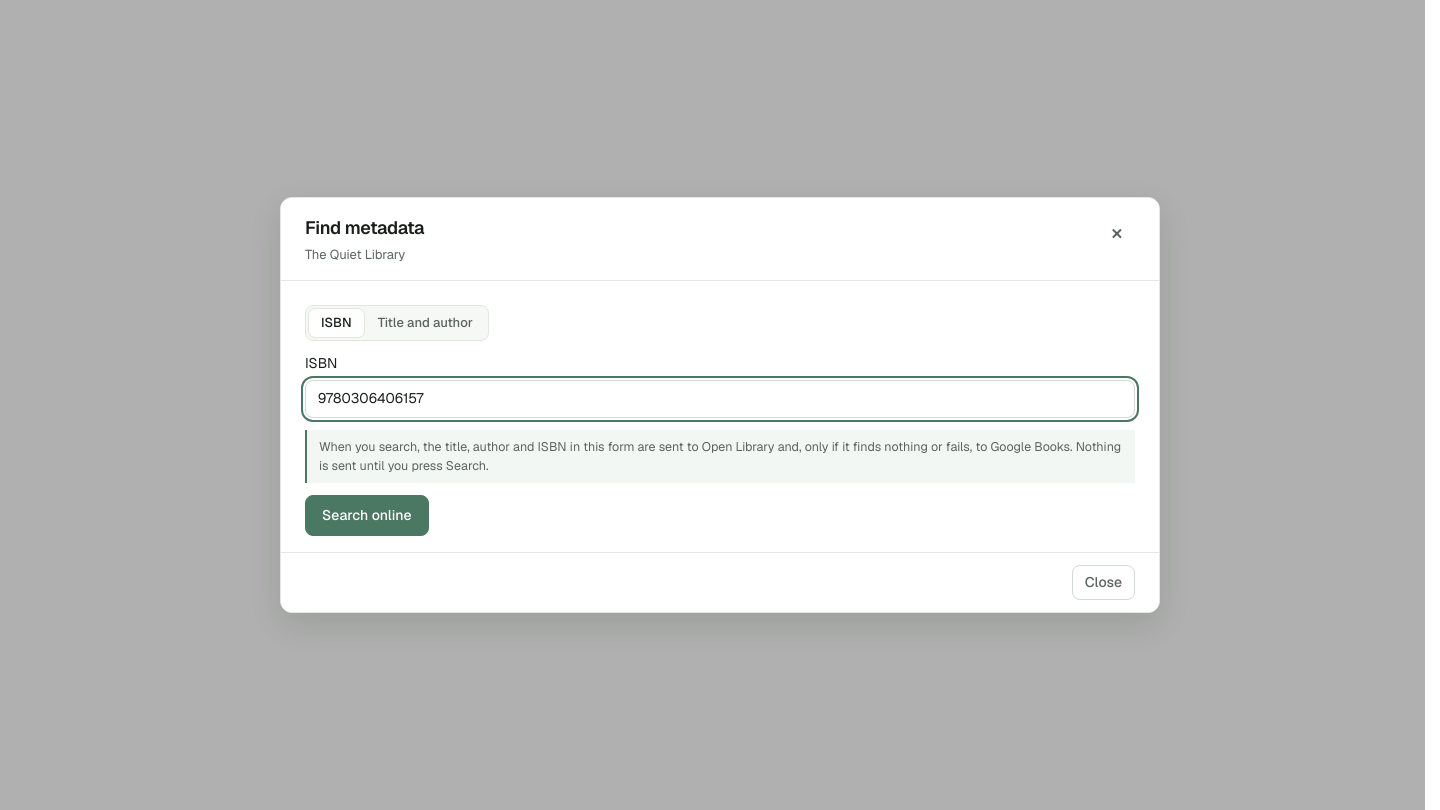
Test: FindMetadataDialog › links key problems to the metadata settings route
Expected: the field labelled "ISBN" is shown, [305,380,1135,418]
Click the button "Search online" at (367, 516), box [305,495,428,536]
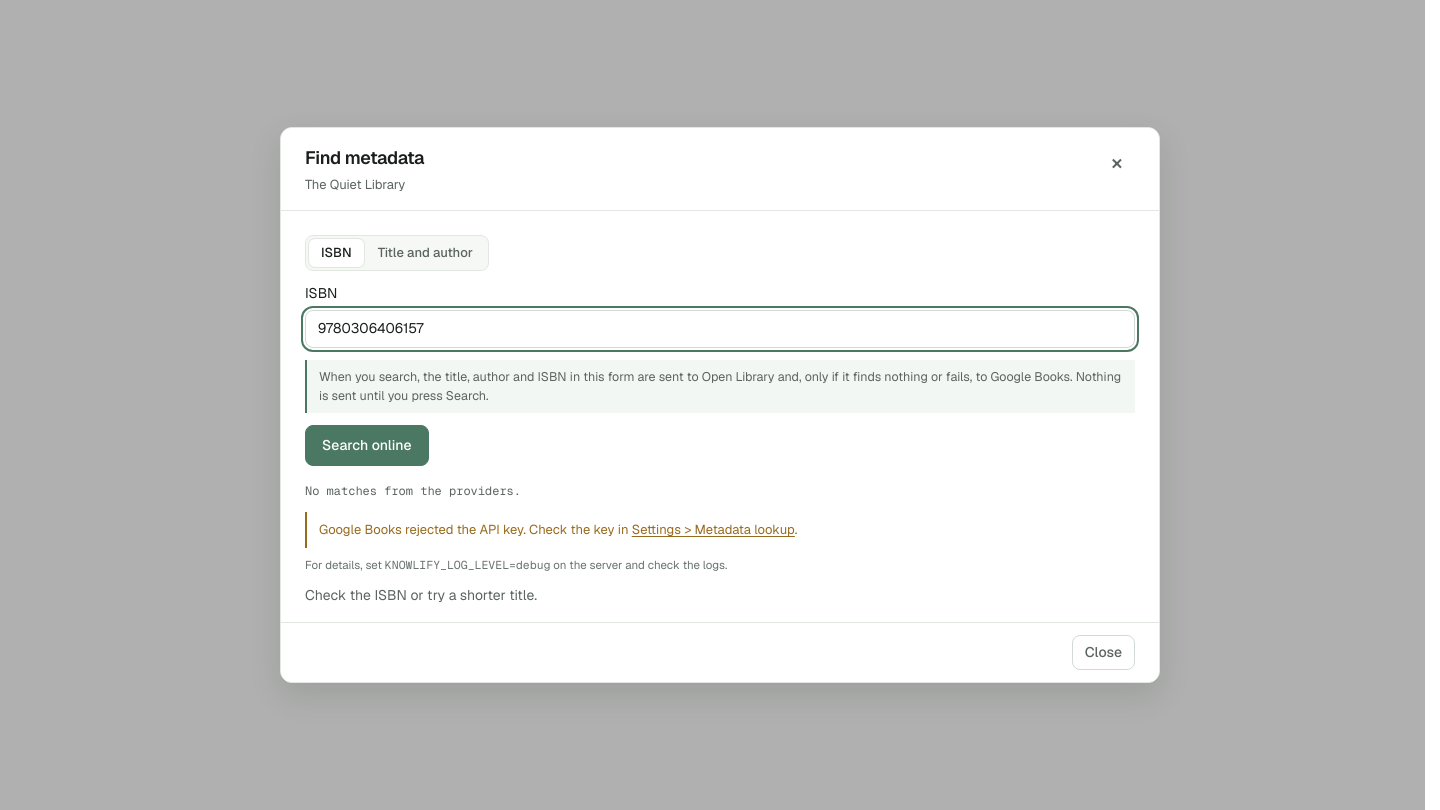
Result: the text "Google Books rejected the API key" is shown at [319,521,632,538]
